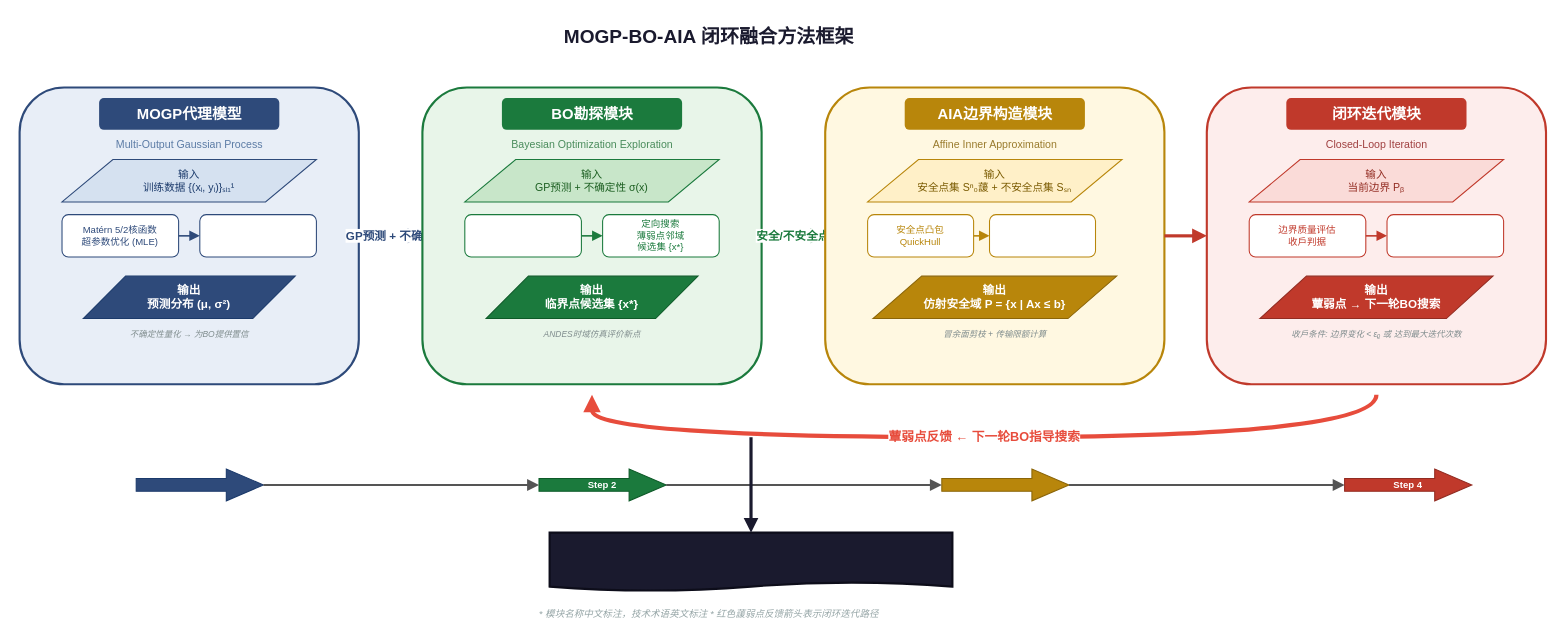
The diagram is 1565 pixels wide and 638 high, and some of its shapes have lost their labels. The box of each missing label's shape, as (x1, y1, x2, y2) in pixels:
EI采集函数 α(x) = σ[γΌ + φ(γΌ)]: (464, 214, 581, 257)
LP分离超平面 收缩 ε: (988, 214, 1096, 257)
Step 1: (135, 468, 263, 501)
Step 3: (941, 468, 1069, 501)
多输出联合预测 协向除流抽象: (199, 214, 316, 257)
最终输出 分场景AIA安全边界 P = {x | Ax ≤ b} + 传输容量限额: (548, 531, 953, 591)
薄弱点识别 → 下一轮BO搜索: (1386, 214, 1504, 257)
